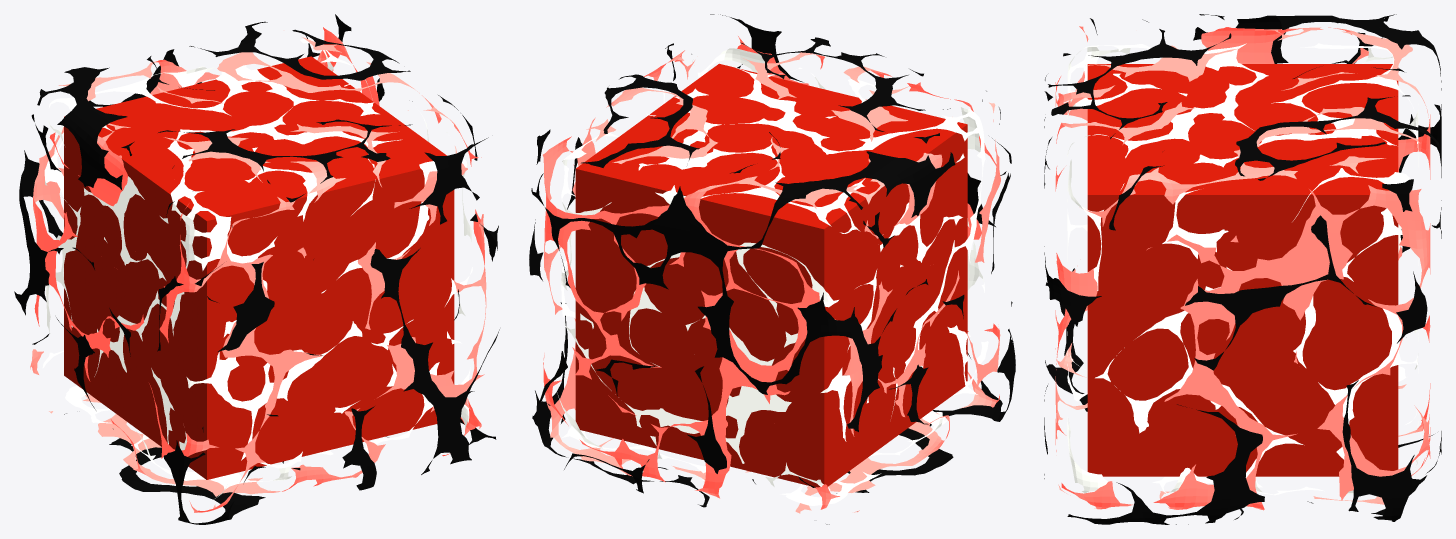
The picture shows the model from 3 angles, left to right: view 1: azimuth 30°, elevation 25°; view 2: azimuth 150°, elevation 25°; view 3: azimuth 270°, elevation 25°; orthographic projection. The views are drawn at different scales.
Parts seen in each view (by area): view 1: Cube.001_3, Cube.003_6, Cube_0, Cube.002_4; view 2: Cube.001_3, Cube.003_6, Cube_0, Cube.002_4; view 3: Cube.001_3, Cube_0, Cube.003_6, Cube.002_4.
Part boxes in pixels (x1,y1,x2,y2): Cube.001_3: (64, 56, 454, 479); Cube.003_6: (14, 14, 499, 524); Cube_0: (30, 27, 486, 512); Cube.002_4: (42, 39, 472, 498); Cube.001_3: (575, 63, 967, 487); Cube.003_6: (529, 14, 1015, 524); Cube_0: (542, 36, 1000, 513); Cube.002_4: (557, 48, 988, 505); Cube.001_3: (1087, 64, 1398, 476); Cube_0: (1055, 26, 1430, 510); Cube.003_6: (1044, 14, 1441, 524); Cube.002_4: (1067, 43, 1418, 495).
Size of what is drawn, in the model's own units: 2.29 by 2.29 by 2.29.
